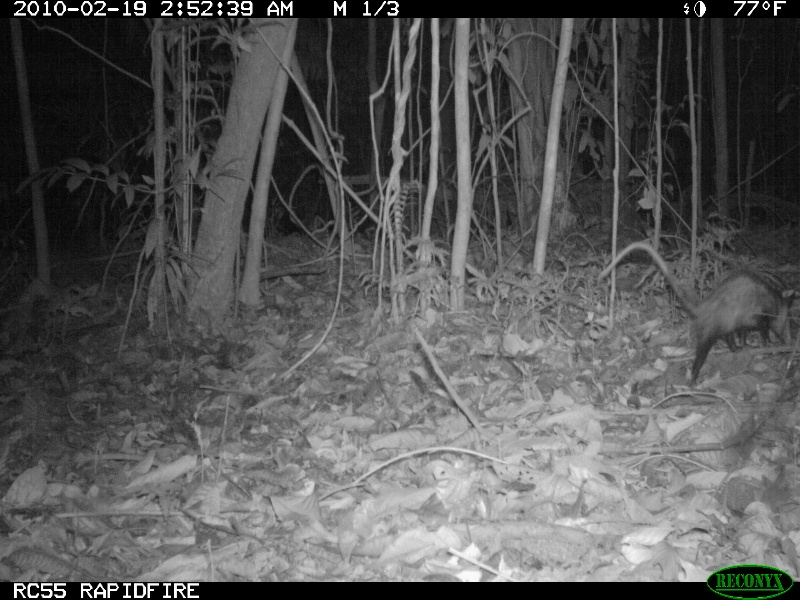opossum: (600, 241, 797, 383)
